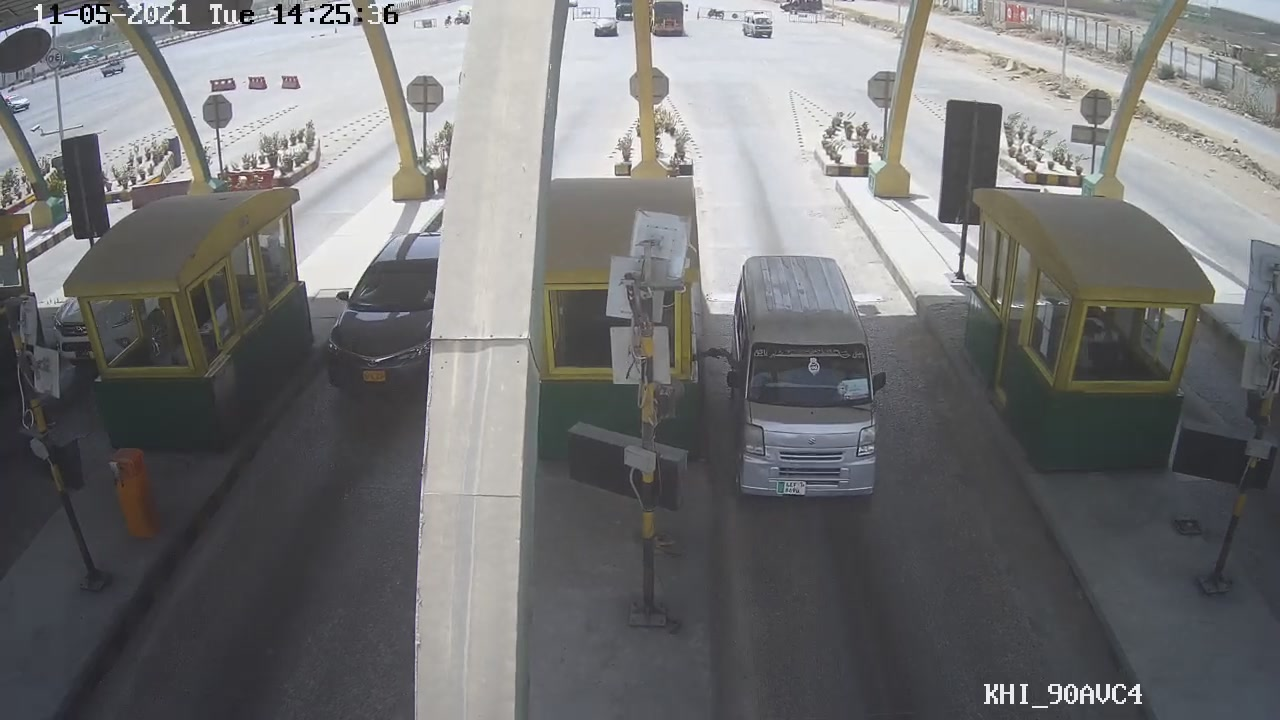F1: (720, 248, 892, 508)
